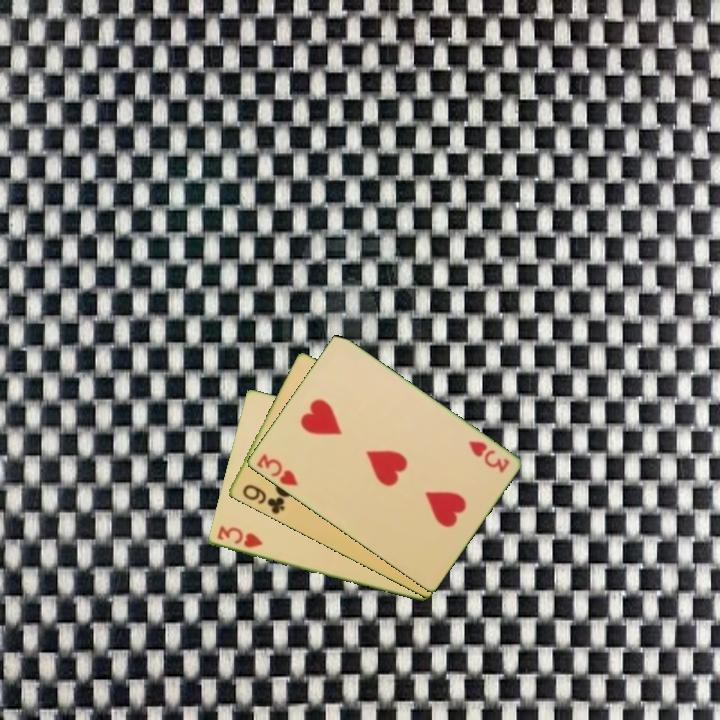3h: (253, 450, 301, 489), (464, 437, 512, 476), (213, 522, 265, 551)
9c: (239, 481, 287, 517)
